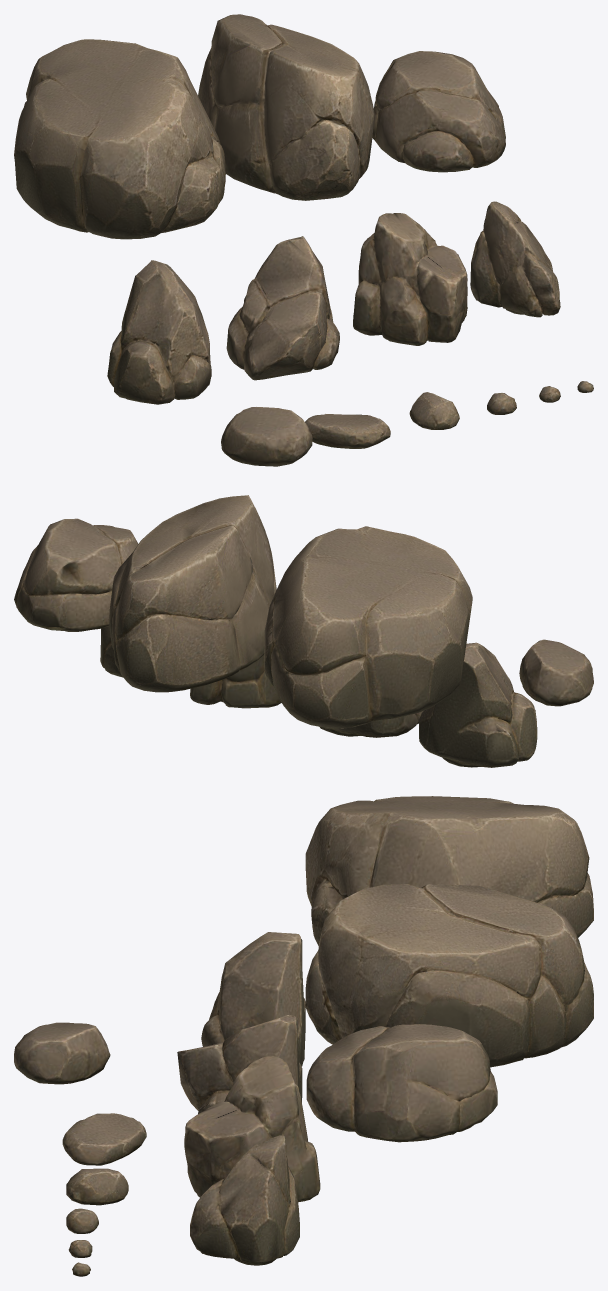
Rendered from Pack_rocas_1.glb.
3 renders of one model, top to bottom at view 1: azimuth 30°, elevation 25°; view 2: azimuth 150°, elevation 25°; view 3: azimuth 270°, elevation 25°, orthographic. The views are drawn at different scales.
Visible parts, largest first — view 1: tripo_part_3, tripo_part_1, tripo_part_2, tripo_part_0, tripo_part_4, tripo_part_6, tripo_part_5, tripo_part_14, tripo_part_7, tripo_part_9, tripo_part_8; view 2: tripo_part_3, tripo_part_1, tripo_part_2, tripo_part_6, tripo_part_14, tripo_part_0, tripo_part_4, tripo_part_5; view 3: tripo_part_1, tripo_part_3, tripo_part_2, tripo_part_0, tripo_part_5, tripo_part_6, tripo_part_4, tripo_part_14, tripo_part_7, tripo_part_9, tripo_part_11.
Part boxes in pixels (<box>): tripo_part_3: <box>14,39,225,239</box>; tripo_part_1: <box>198,14,374,200</box>; tripo_part_2: <box>372,51,505,172</box>; tripo_part_0: <box>353,213,467,345</box>; tripo_part_4: <box>226,236,339,380</box>; tripo_part_6: <box>107,260,211,404</box>; tripo_part_5: <box>470,201,560,317</box>; tripo_part_14: <box>221,407,312,466</box>; tripo_part_7: <box>305,414,390,448</box>; tripo_part_9: <box>409,392,459,429</box>; tripo_part_8: <box>174,354,211,399</box>; tripo_part_3: <box>264,526,472,728</box>; tripo_part_1: <box>109,495,276,692</box>; tripo_part_2: <box>14,518,138,631</box>; tripo_part_6: <box>419,642,537,767</box>; tripo_part_14: <box>519,639,593,706</box>; tripo_part_0: <box>190,654,281,708</box>; tripo_part_4: <box>324,711,423,737</box>; tripo_part_5: <box>100,626,122,677</box>; tripo_part_1: <box>305,884,593,1067</box>; tripo_part_3: <box>305,796,593,945</box>; tripo_part_2: <box>306,1024,497,1142</box>; tripo_part_0: <box>184,1056,320,1202</box>; tripo_part_5: <box>190,1135,299,1265</box>; tripo_part_6: <box>209,932,305,1066</box>; tripo_part_4: <box>177,1015,302,1113</box>; tripo_part_14: <box>14,1022,110,1084</box>; tripo_part_7: <box>62,1113,146,1165</box>; tripo_part_9: <box>66,1168,128,1205</box>; tripo_part_11: <box>66,1208,98,1233</box>.
Size of the model in its own units: 1 by 0.5969 by 1.
Materials: 1 (1 with a texture image).
